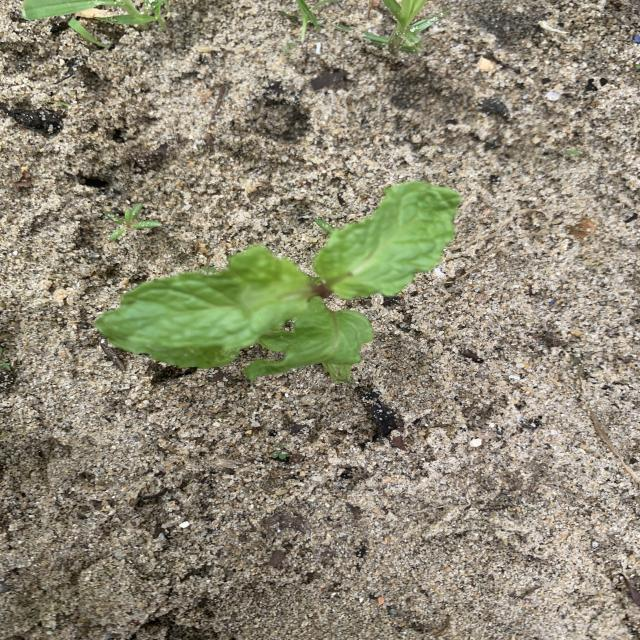crop: (97, 180, 460, 381)
weed: (364, 1, 450, 56), (22, 0, 168, 29), (283, 0, 336, 52), (106, 205, 159, 239), (69, 20, 106, 48), (273, 448, 288, 460)
